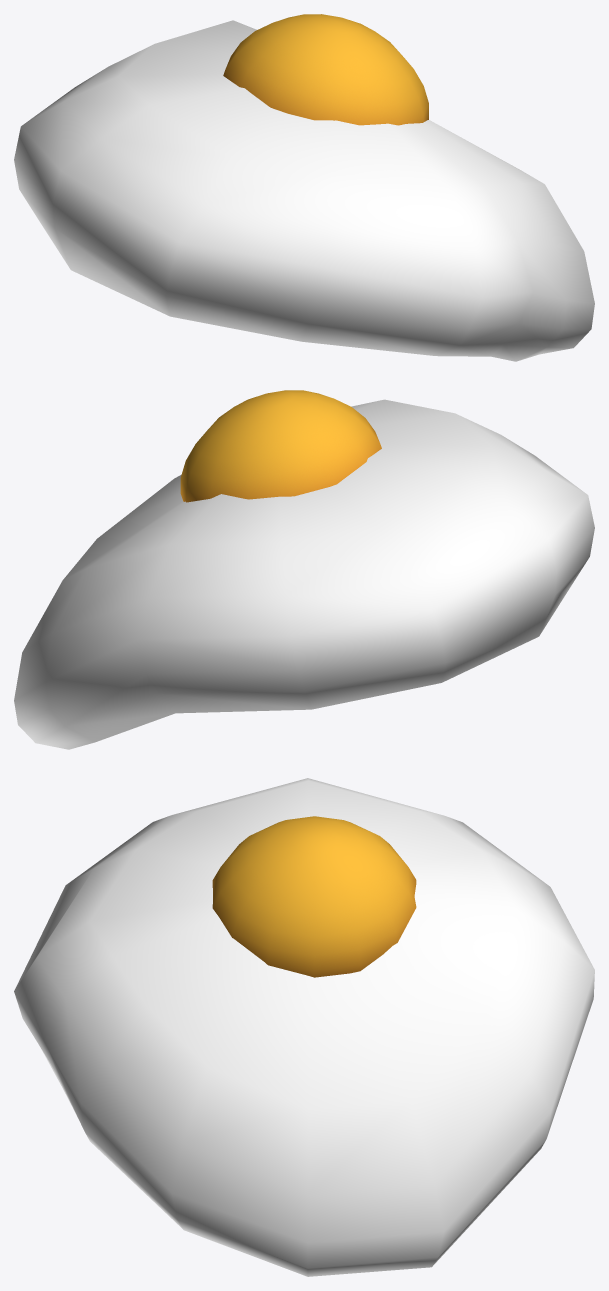
Rendered from ImposteSkin06Egg.fbx.
3 views of the same model, one above another, from view 1: azimuth 30°, elevation 25°; view 2: azimuth 150°, elevation 25°; view 3: azimuth 270°, elevation 25° (orthographic). The views are drawn at different scales.
Parts seen in each view (by area): view 1: Imposterskin06Egg_geo; view 2: Imposterskin06Egg_geo; view 3: Imposterskin06Egg_geo.
Part boxes in pixels (left/top/right/bottom): Imposterskin06Egg_geo: left=14, top=14, right=594, bottom=361; Imposterskin06Egg_geo: left=14, top=390, right=594, bottom=749; Imposterskin06Egg_geo: left=14, top=778, right=594, bottom=1276.
Bounding box in the file's own units: 1.72 × 1.17 × 1.75.
1 material, 1 textured.
